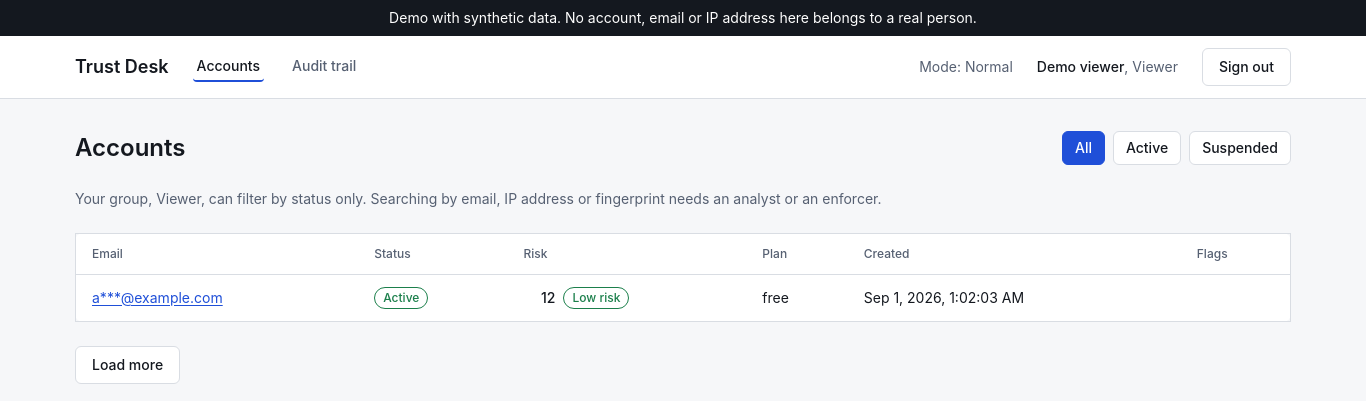
Test: AccountsPage › loads the next page with the cursor the server sent
Click the button "Load more" at [128, 365], box x1=75 y1=346 x2=180 y2=384
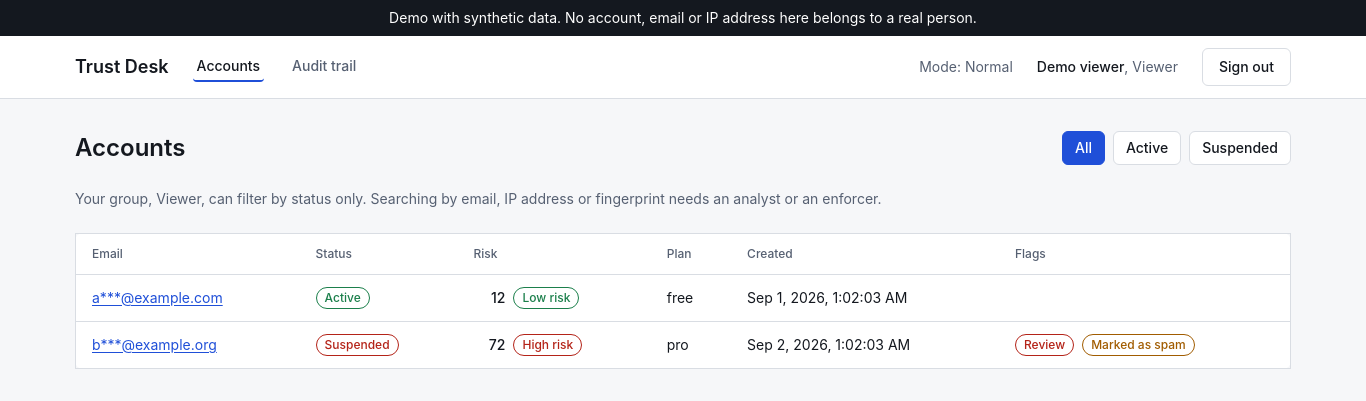
expect the link "a***@example.com" is shown: met, box x1=92 y1=289 x2=223 y2=306
expect the link "b***@example.org" is shown: met, box x1=92 y1=336 x2=217 y2=353
expect the button "Load more" is gone: met
